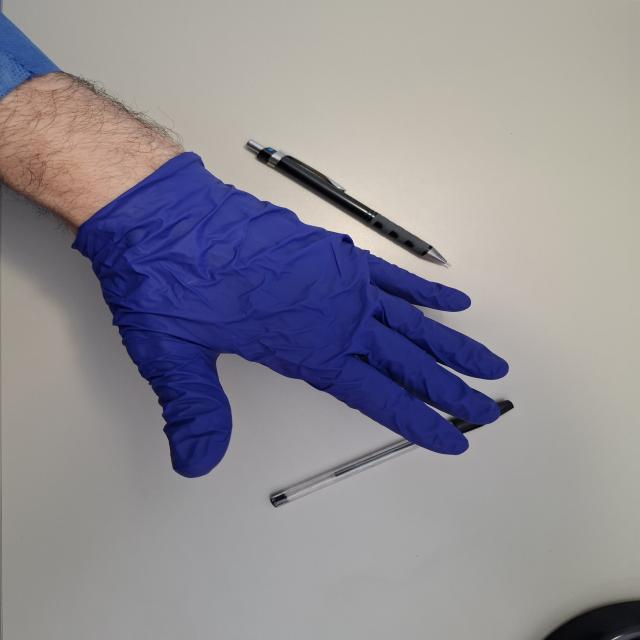glove_on: (59, 146, 514, 484)
